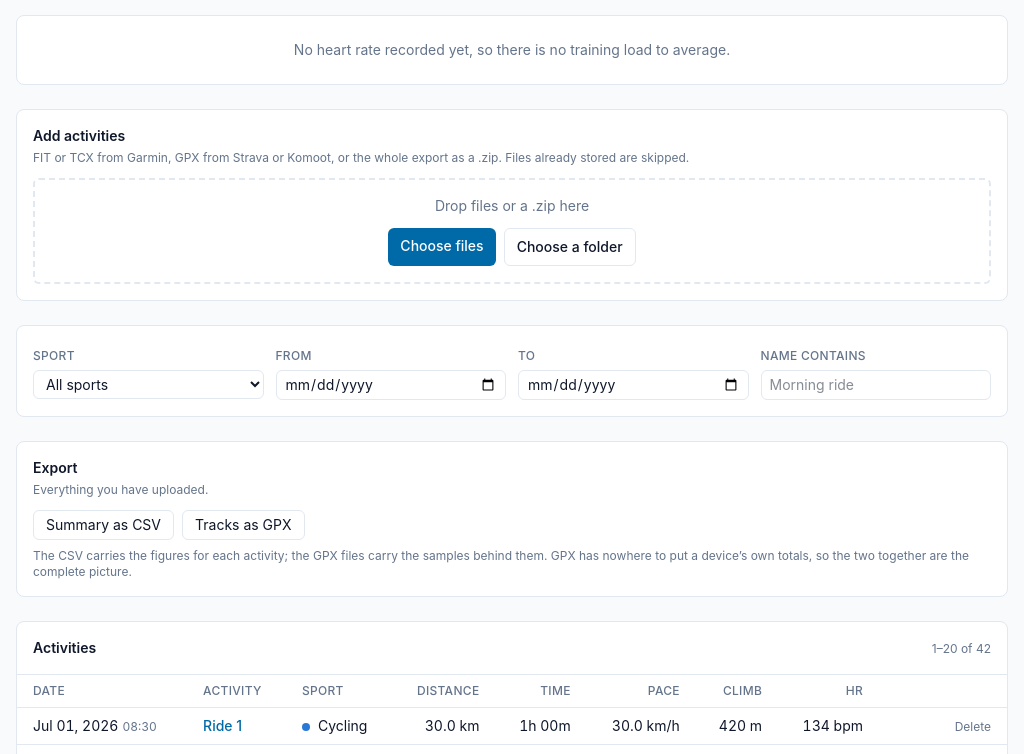
Test: Dashboard filtering › explains an empty filtered result instead of asking for a first upload
(page scrolled)
Select "Running (12)" in the dropdown labelled "Sport": {"x": 148, "y": 384} [33,370,264,399]
(page scrolled)
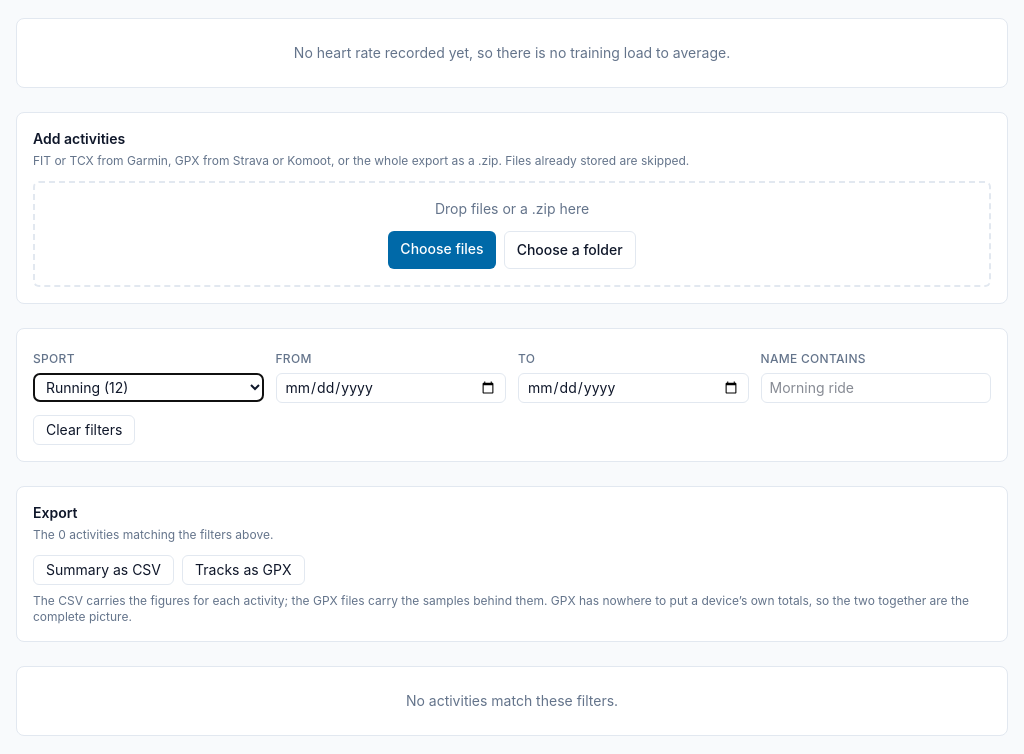
Result: the text "No activities match these filters." is shown at [406,692,618,709]
